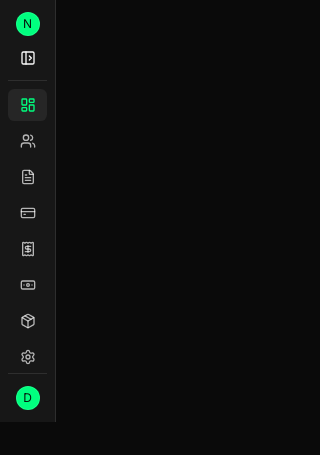
Test case: DashboardSidebar › toggles from collapsed back to expanded on click, restoring labels and updating the cookie
Click the button named "expandir barra lateral" at [28, 58], box [14,44,42,72]
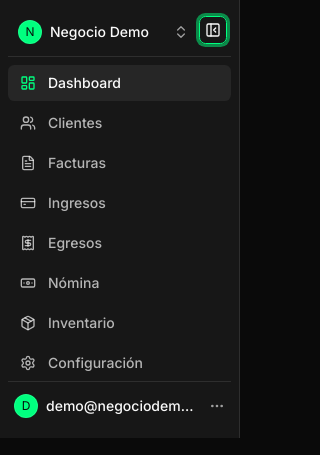
Result: the text "Dashboard" is shown at [48,73,121,93]
Result: the button named "colapsar barra lateral" is shown at [199,16,227,44]
